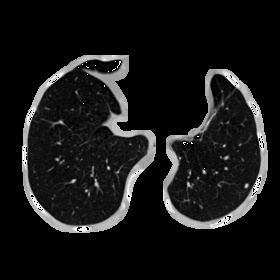PN: (244, 184, 248, 188)
